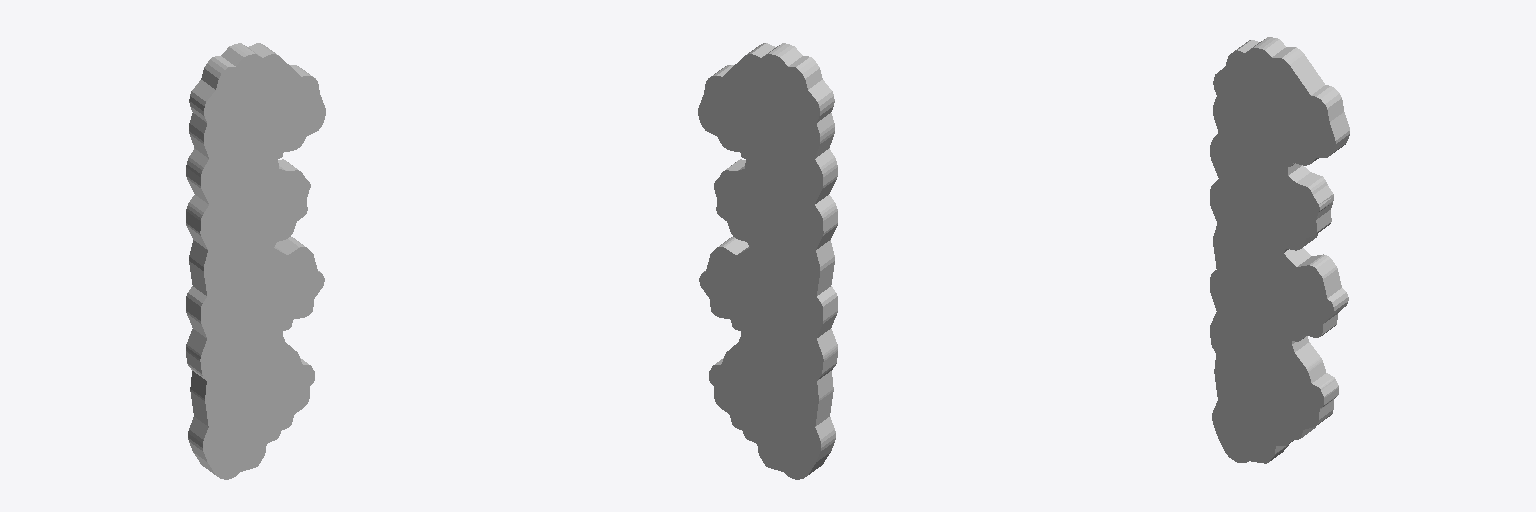
File: SOG_Cloud_Stbd.obj
3 views of the same model, side by side, from view 1: azimuth 30°, elevation 25°; view 2: azimuth 150°, elevation 25°; view 3: azimuth 330°, elevation 25° (orthographic).
Visible parts, largest first — view 1: Object; view 2: Object; view 3: Object.
Part boxes in pixels (x1,y1,x2,y2): Object: (186,43,325,479); Object: (698,43,837,479); Object: (1210,37,1349,463).
Size of the model in its own units: 22.26 by 70.83 by 4.52.